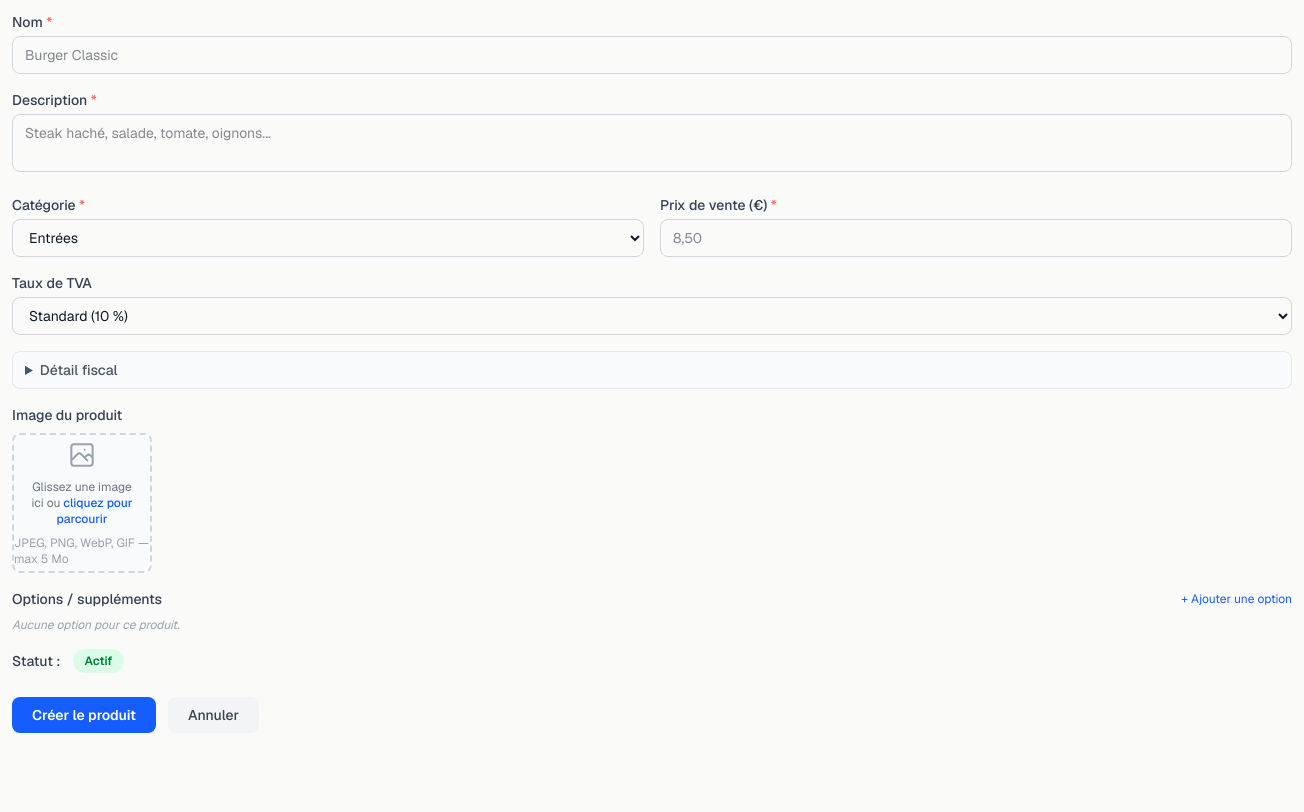
Test: ProduitForm › option avec nom vide → erreur "option X : le nom est requis"
This screenshot has width=1304, height=812.
Type "Produit" into the field with placeholder "Burger Classic".
click(652, 55); type("Produit")  # box top-left (12, 36), bottom-right (1292, 74)
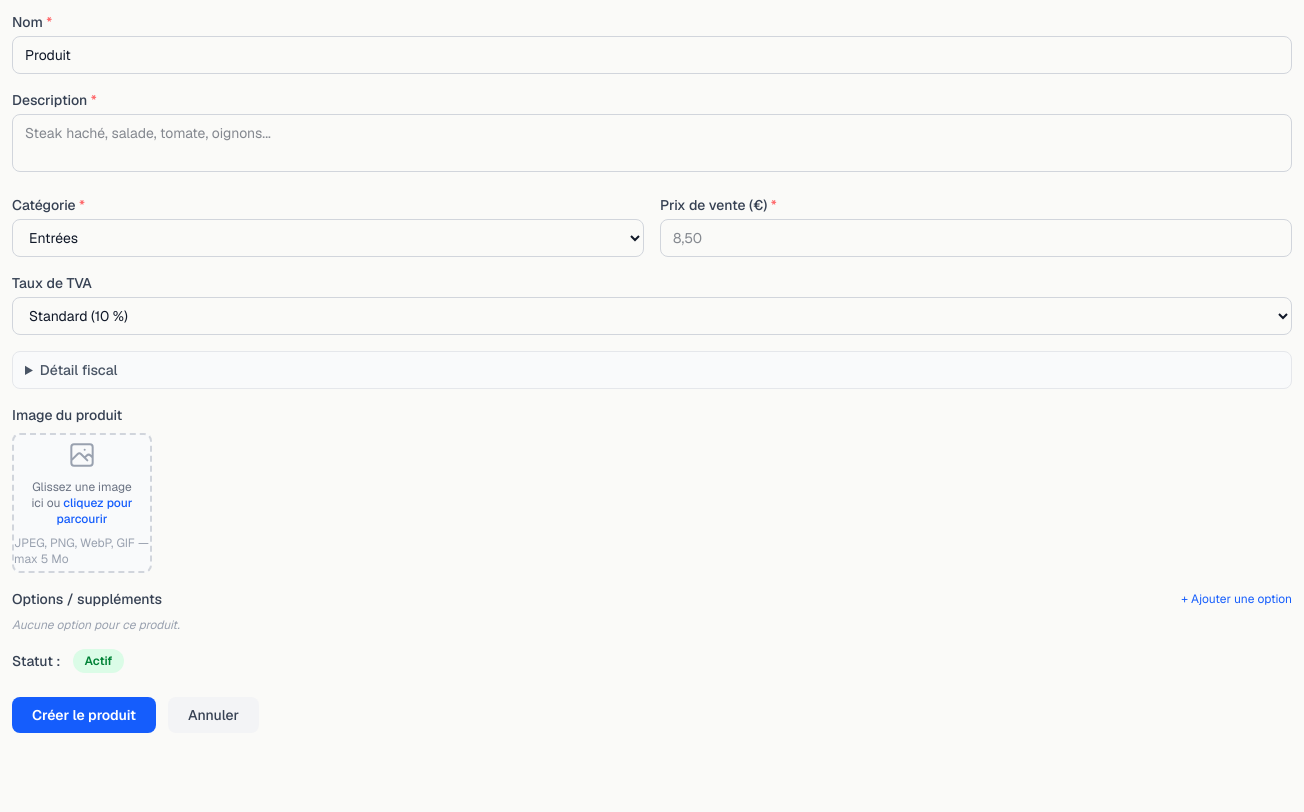
Type "Desc" into the text box with placeholder "Steak haché, salade, tomate, oignons...".
click(652, 143); type("Desc")  # box top-left (12, 114), bottom-right (1292, 172)
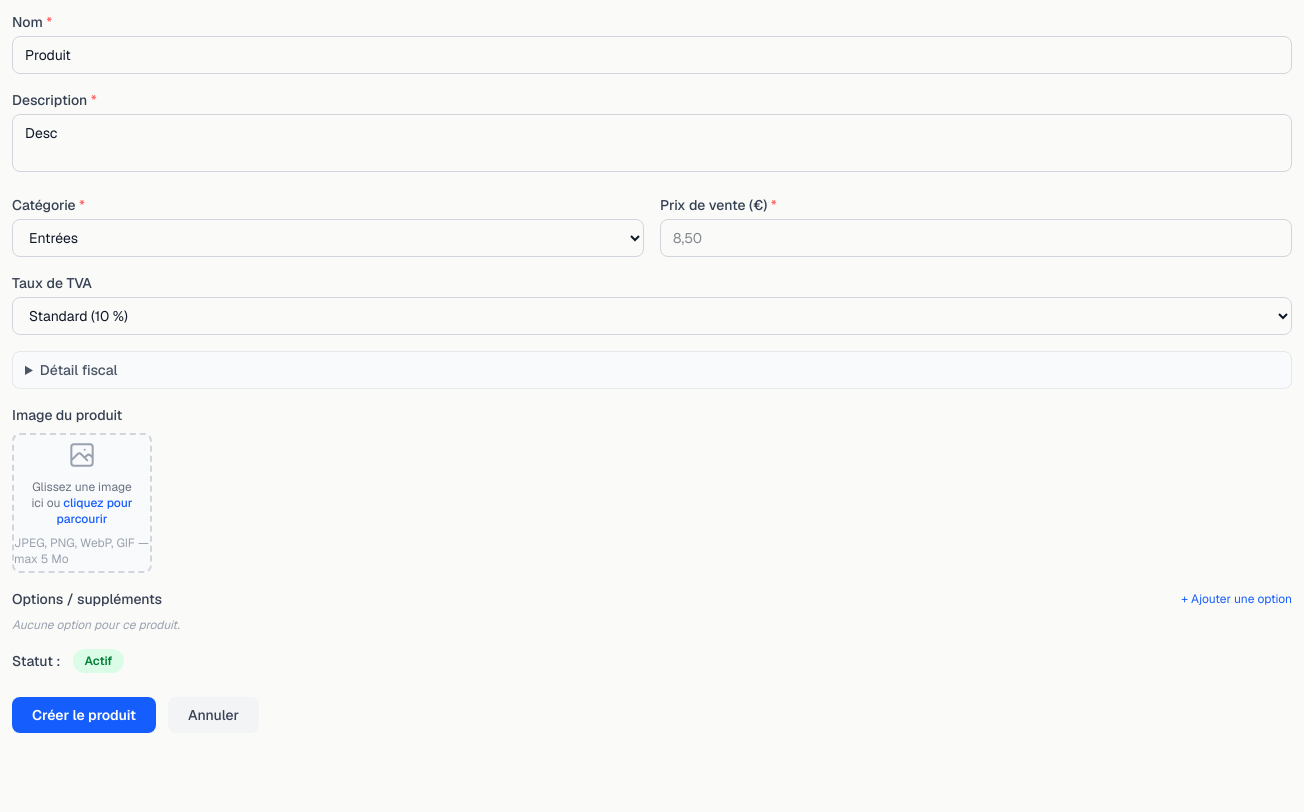
Type "5,00" into the field with placeholder "8,50".
click(976, 238); type("5,00")  # box top-left (660, 219), bottom-right (1292, 257)
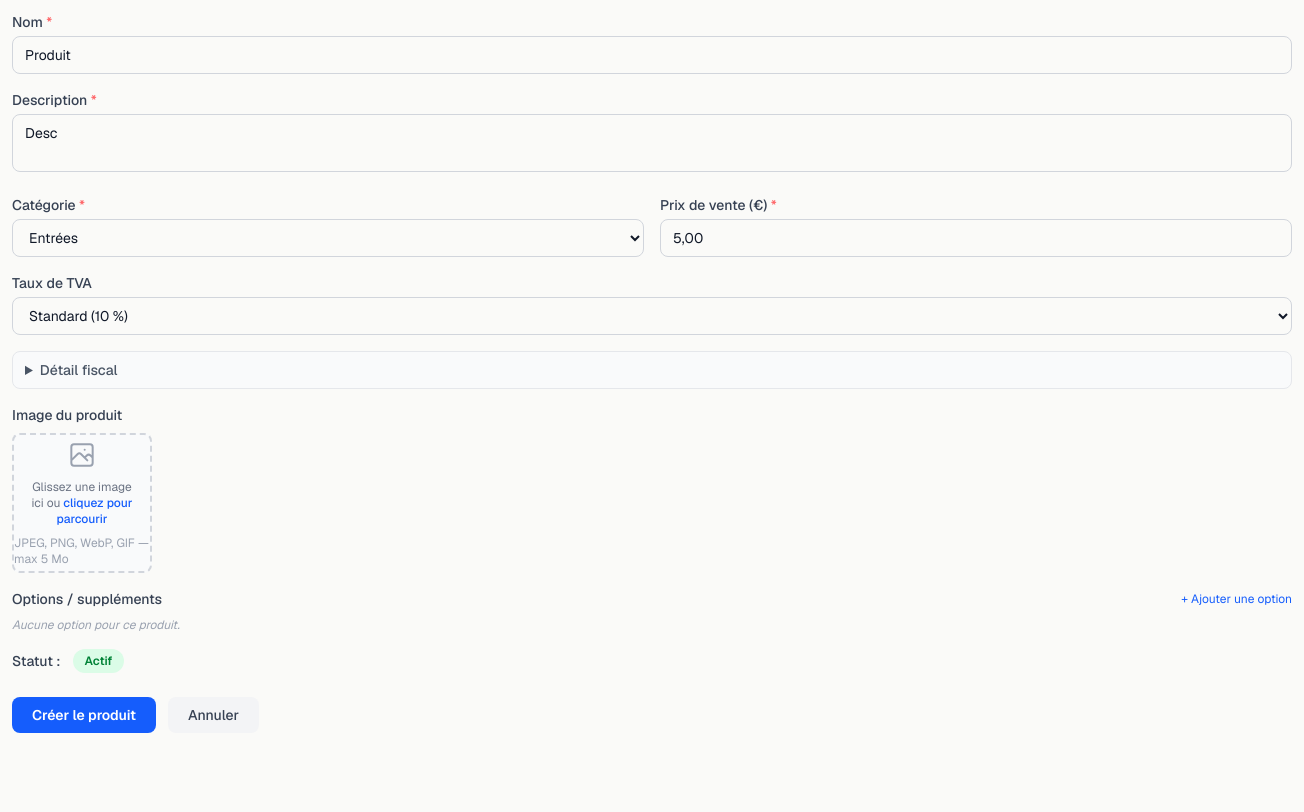
Note: Ajout d'une option avec nom vide
Click the button "+ Ajouter une option".
click(1237, 599)  # box top-left (1181, 591), bottom-right (1292, 607)
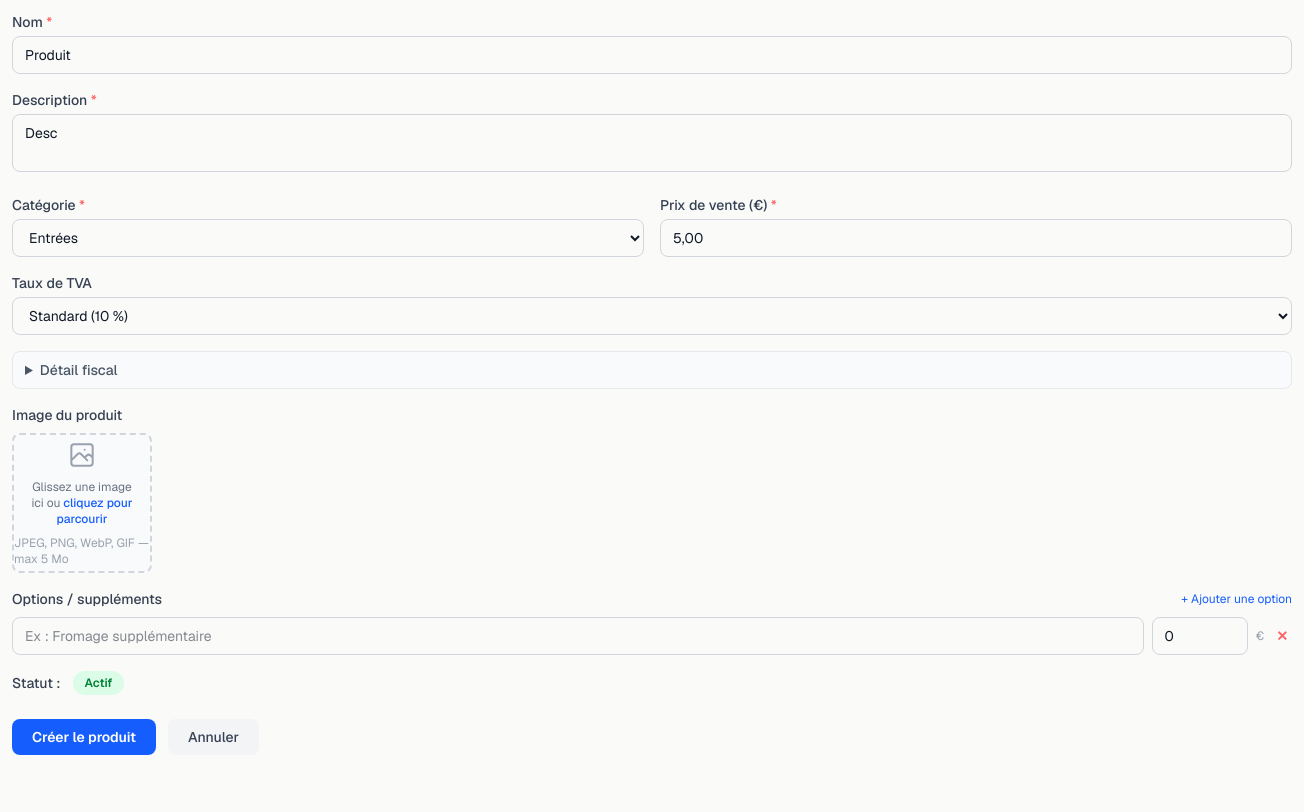
Note: Laisse le nom vide, soumet
Submit the form
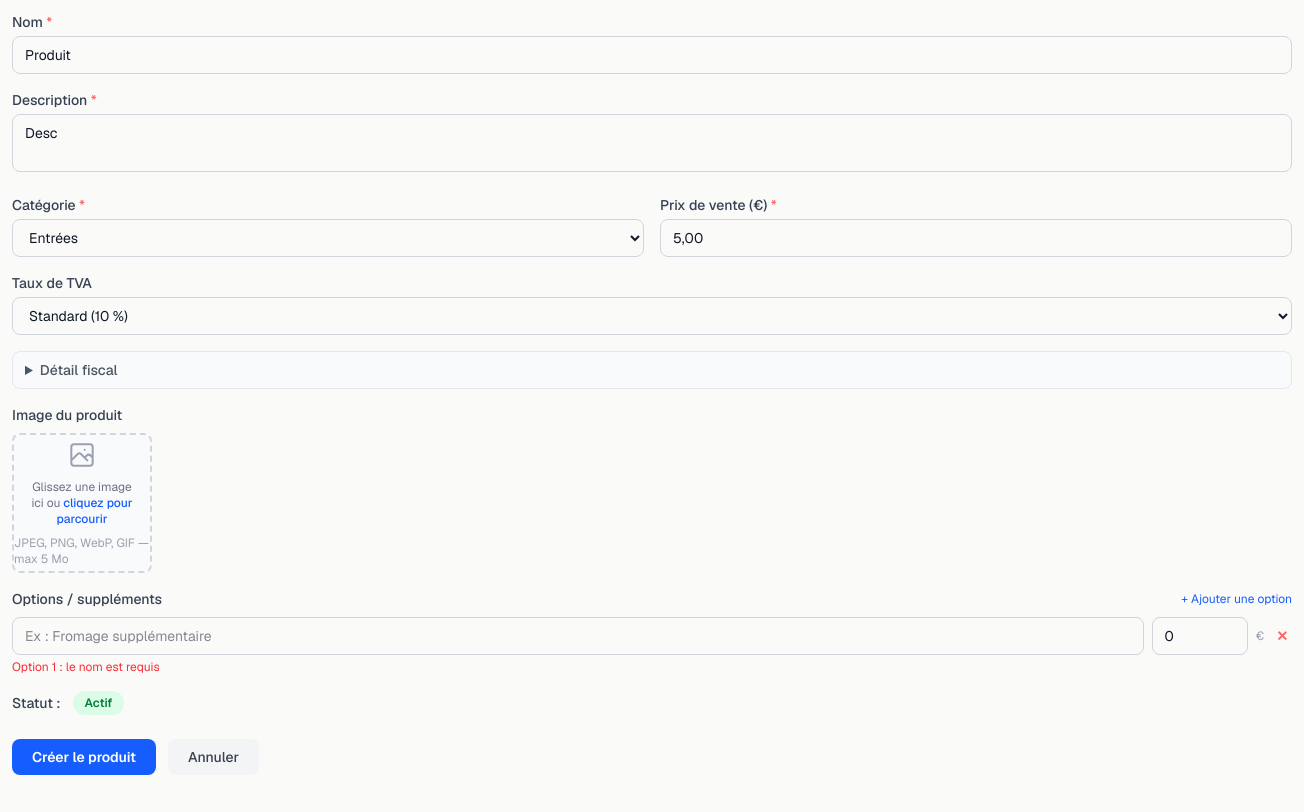
expect the text "Option 1 : le nom est requis" is shown: met, box top-left (12, 659), bottom-right (160, 675)
